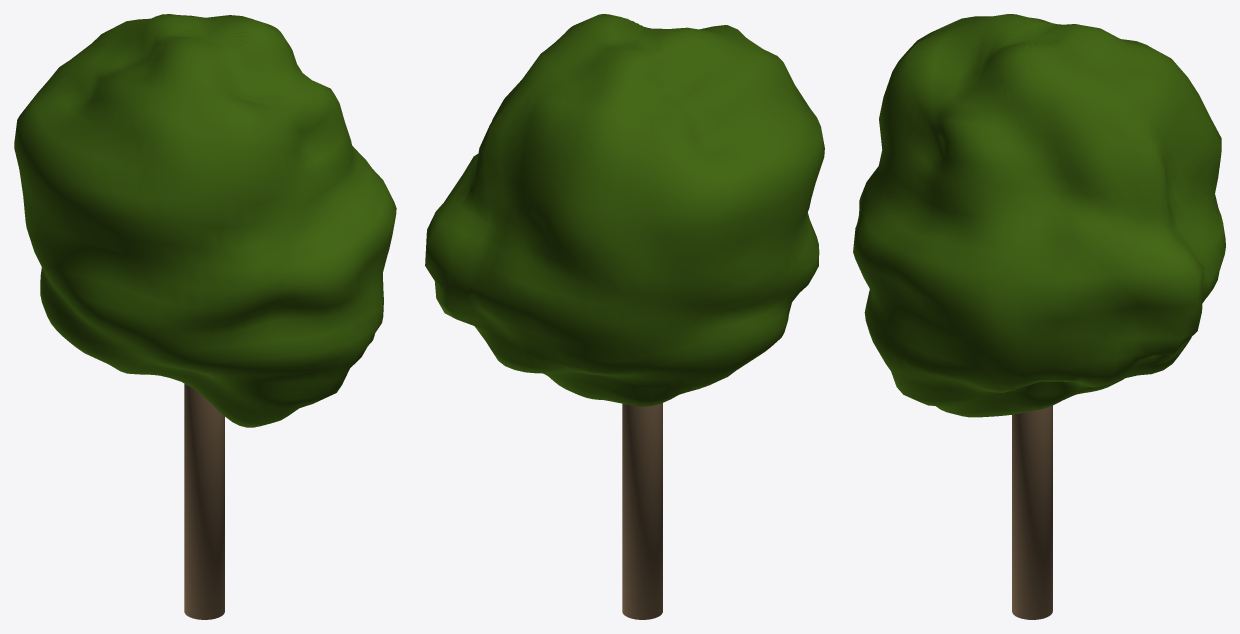
File: OakTree.fbx
3 renders of one model, left to right at view 1: azimuth 30°, elevation 25°; view 2: azimuth 150°, elevation 25°; view 3: azimuth 270°, elevation 25°, orthographic.
Visible parts, largest first — view 1: Sphere, Cylinder; view 2: Sphere, Cylinder; view 3: Sphere, Cylinder.
Boxes of the visible parts, x1,y1,x2,y2 form: Sphere: (14, 14, 396, 427); Cylinder: (184, 383, 224, 619); Sphere: (425, 14, 824, 406); Cylinder: (622, 403, 662, 619); Sphere: (853, 14, 1225, 417); Cylinder: (1012, 405, 1052, 619).
Size of the model in its own units: 364 by 621 by 360.
